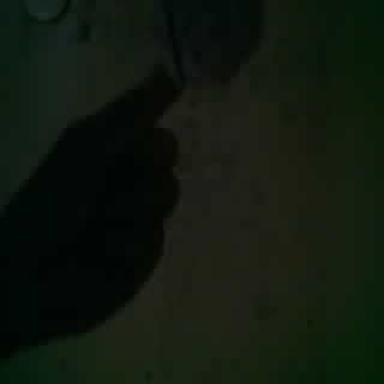paper: (155, 0, 262, 82)
